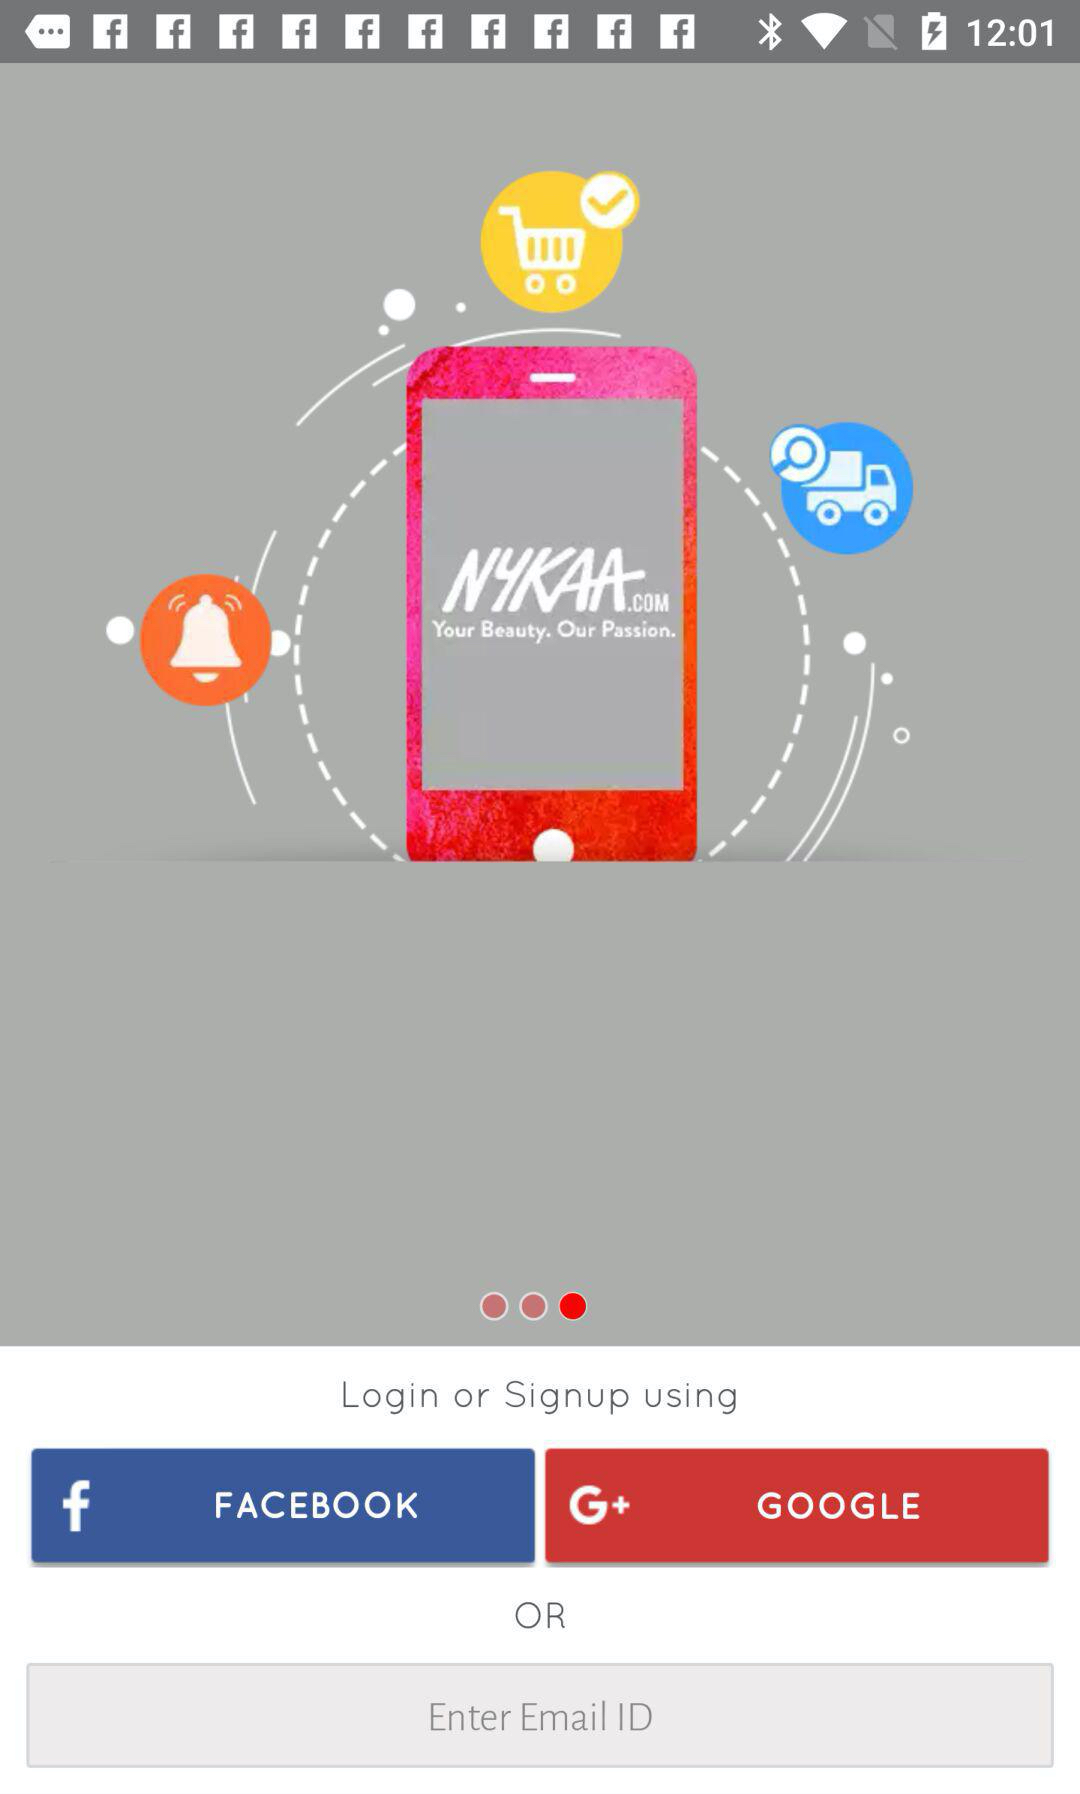EditText: (27, 1662, 1054, 1768)
Image: (104, 168, 915, 864)
PageIndicator: (479, 1290, 591, 1322)
Text: (342, 1380, 737, 1416), (430, 1700, 652, 1732), (515, 1601, 568, 1630)
TextButton: (544, 1448, 1049, 1568), (32, 1448, 536, 1568)
UpperTaskBar: (1, 1, 1080, 64)
